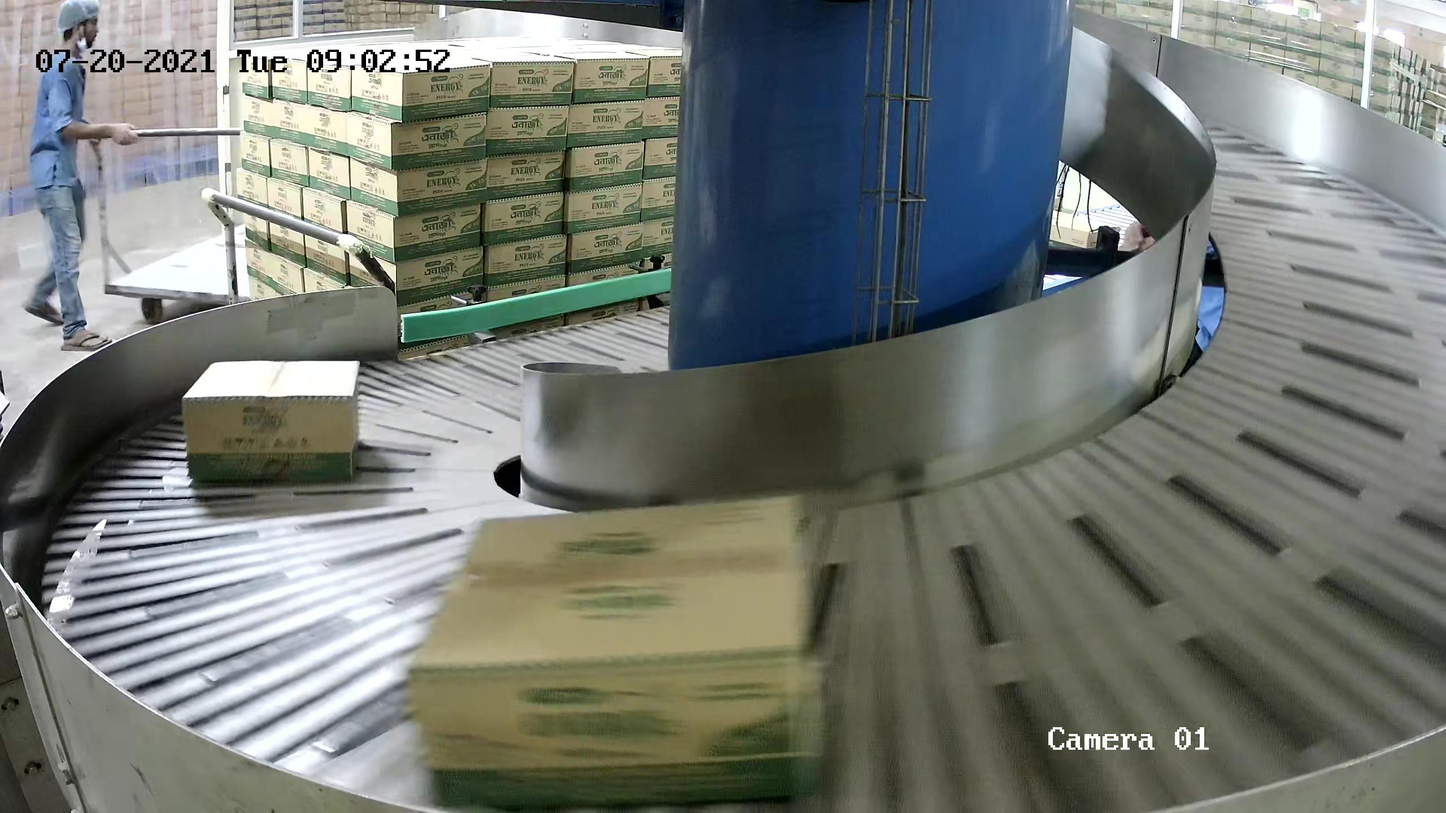Box: (406, 498, 822, 813), (181, 360, 362, 484)
